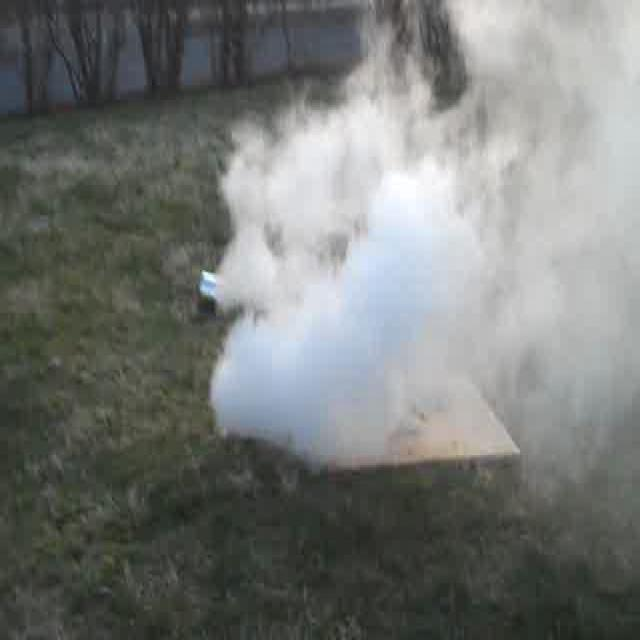Smoke: (225, 80, 608, 428)
